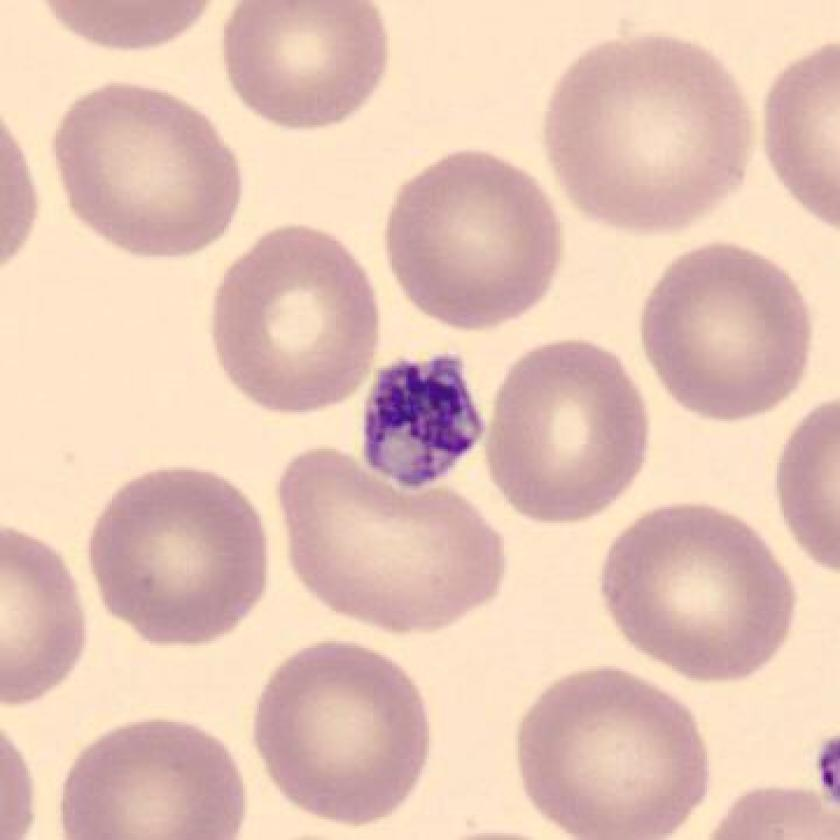platelets: (356, 344, 493, 506)
